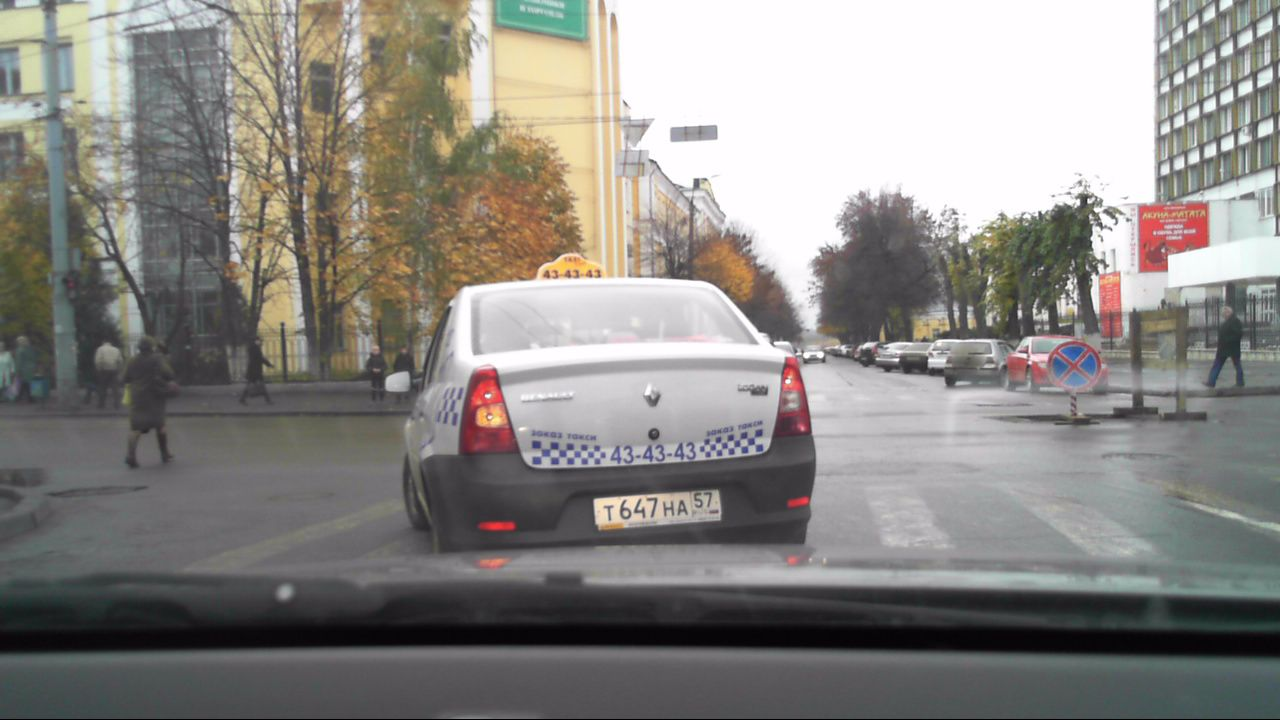No Parking: (1039, 340, 1103, 396)
